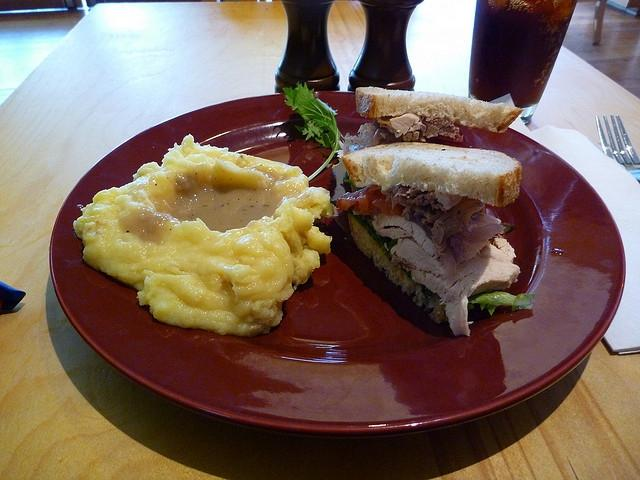lettuce: (282, 80, 342, 183), (420, 284, 536, 322), (377, 234, 398, 252)
tomato: (322, 184, 406, 228)
